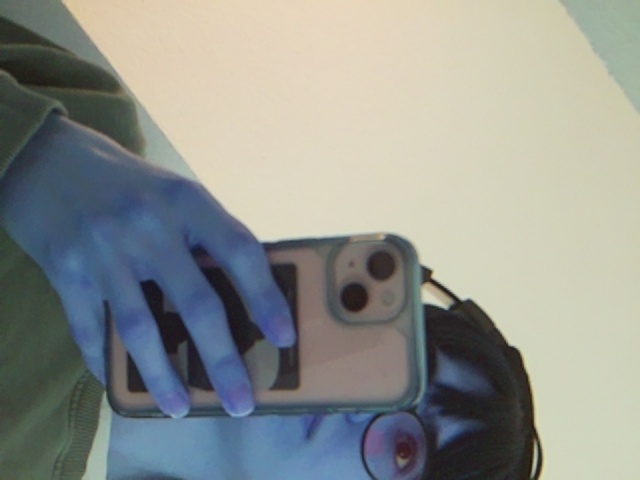cell phone: (101, 224, 419, 414)
